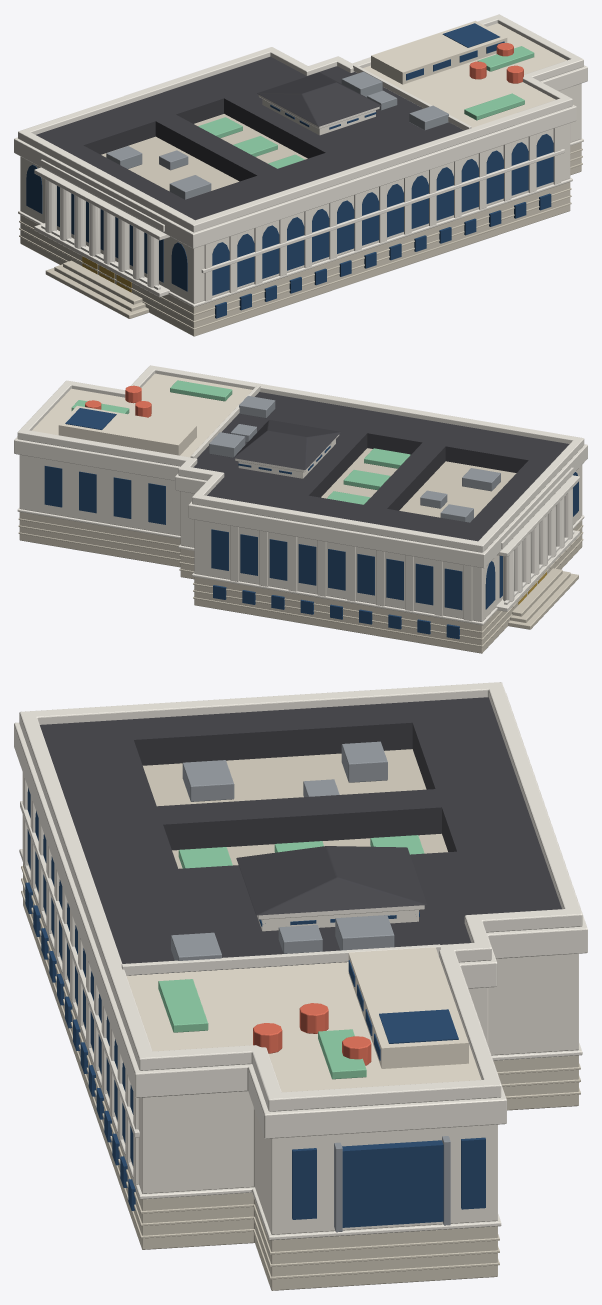
File: asian-art-museum.glb
3 views of the same model, one above another, from view 1: azimuth 30°, elevation 25°; view 2: azimuth 150°, elevation 25°; view 3: azimuth 270°, elevation 25° (orthographic). The views are drawn at different scales.
Visible parts, largest first — view 1: grp_Toy_trim, grp_Toy_roofd, grp_Toy_stone, grp_Toy_glass, grp_Toy_cream, grp_Toy_sand, grp_Toy_steel, grp_Toy_mint, grp_Toy_coral, grp_Toy_gold_Glow; view 2: grp_Toy_trim, grp_Toy_roofd, grp_Toy_stone, grp_Toy_cream, grp_Toy_glass, grp_Toy_sand, grp_Toy_steel, grp_Toy_mint, grp_Toy_coral; view 3: grp_Toy_roofd, grp_Toy_trim, grp_Toy_cream, grp_Toy_stone, grp_Toy_sand, grp_Toy_glass, grp_Toy_steel, grp_Toy_mint, grp_Toy_coral.
Boxes of the visible parts, box(x1,y1,x2,y2) form: grp_Toy_trim: box(14, 14, 587, 307); grp_Toy_roofd: box(36, 56, 463, 220); grp_Toy_stone: box(19, 114, 582, 336); grp_Toy_glass: box(26, 23, 553, 318); grp_Toy_cream: box(20, 83, 581, 303); grp_Toy_sand: box(363, 20, 566, 127); grp_Toy_steel: box(106, 71, 448, 199); grp_Toy_mint: box(198, 46, 534, 168); grp_Toy_coral: box(469, 43, 523, 83); grp_Toy_gold_Glow: box(82, 256, 131, 292); grp_Toy_trim: box(14, 365, 587, 625); grp_Toy_roofd: box(193, 392, 569, 541); grp_Toy_stone: box(18, 448, 583, 653); grp_Toy_cream: box(19, 439, 582, 621); grp_Toy_glass: box(44, 408, 578, 639); grp_Toy_sand: box(32, 373, 252, 457); grp_Toy_steel: box(209, 396, 500, 522); grp_Toy_mint: box(71, 380, 410, 504); grp_Toy_coral: box(85, 385, 151, 417); grp_Toy_roofd: box(40, 697, 561, 975); grp_Toy_trim: box(14, 682, 587, 1240); grp_Toy_cream: box(22, 772, 578, 1234); grp_Toy_stone: box(21, 749, 580, 1290); grp_Toy_sand: box(126, 947, 481, 1092); grp_Toy_glass: box(25, 788, 485, 1227); grp_Toy_steel: box(171, 741, 450, 1232); grp_Toy_mint: box(158, 835, 424, 1079); grp_Toy_coral: box(253, 1003, 371, 1065).
Bounding box in the file's own units: 115 × 28.1 × 65.18.
